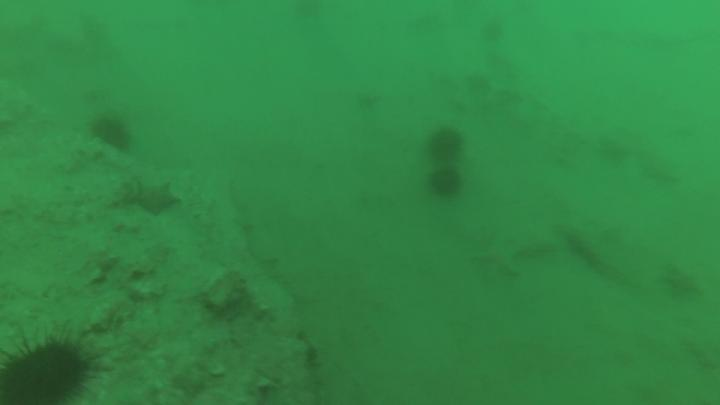echinus: (1, 326, 118, 405), (421, 160, 472, 203), (87, 114, 136, 154), (418, 126, 469, 163)
starfish: (131, 179, 185, 220)
